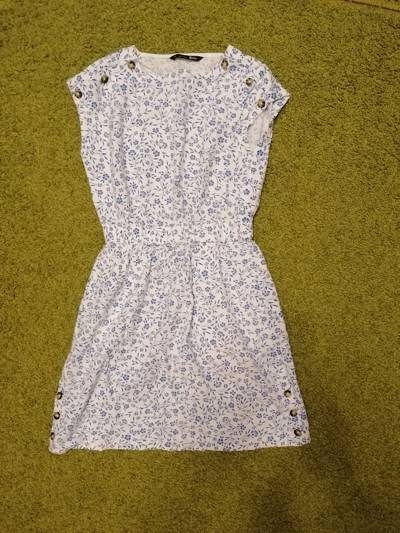Dress: (40, 41, 298, 477)
